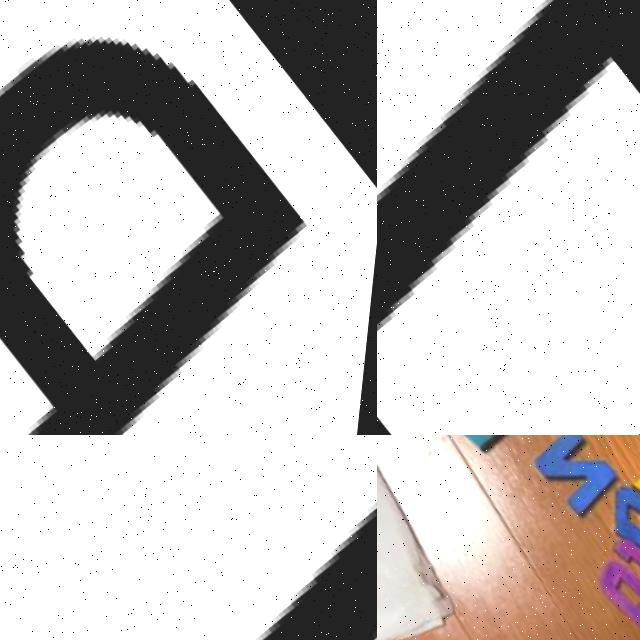B: (601, 463, 640, 585)
L: (0, 435, 377, 640)
N: (531, 435, 629, 512)
R: (0, 0, 377, 435)
S: (581, 518, 640, 624)
V: (432, 435, 543, 461)
X: (607, 435, 640, 512)
